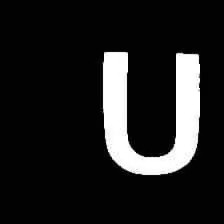LTR_U: (92, 41, 204, 178)
